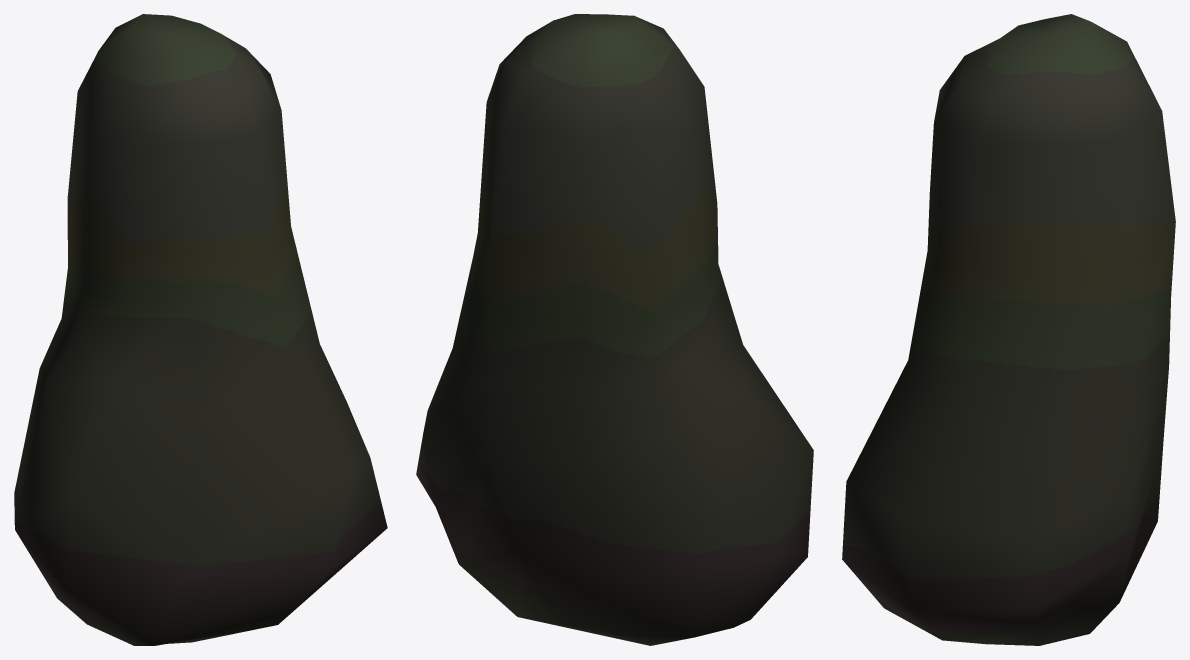
File: SM_Rock_003.fbx
The picture shows the model from 3 angles, left to right: view 1: azimuth 30°, elevation 25°; view 2: azimuth 150°, elevation 25°; view 3: azimuth 270°, elevation 25°; orthographic projection. The views are drawn at different scales.
Parts seen in each view (by area): view 1: SM_Bush_003; view 2: SM_Bush_003; view 3: SM_Bush_003.
Part boxes in pixels (x1,y1,x2,y2): SM_Bush_003: (14, 14, 387, 645); SM_Bush_003: (416, 14, 813, 645); SM_Bush_003: (842, 14, 1175, 645).
Size of the model in its own units: 259 by 421 by 212.
